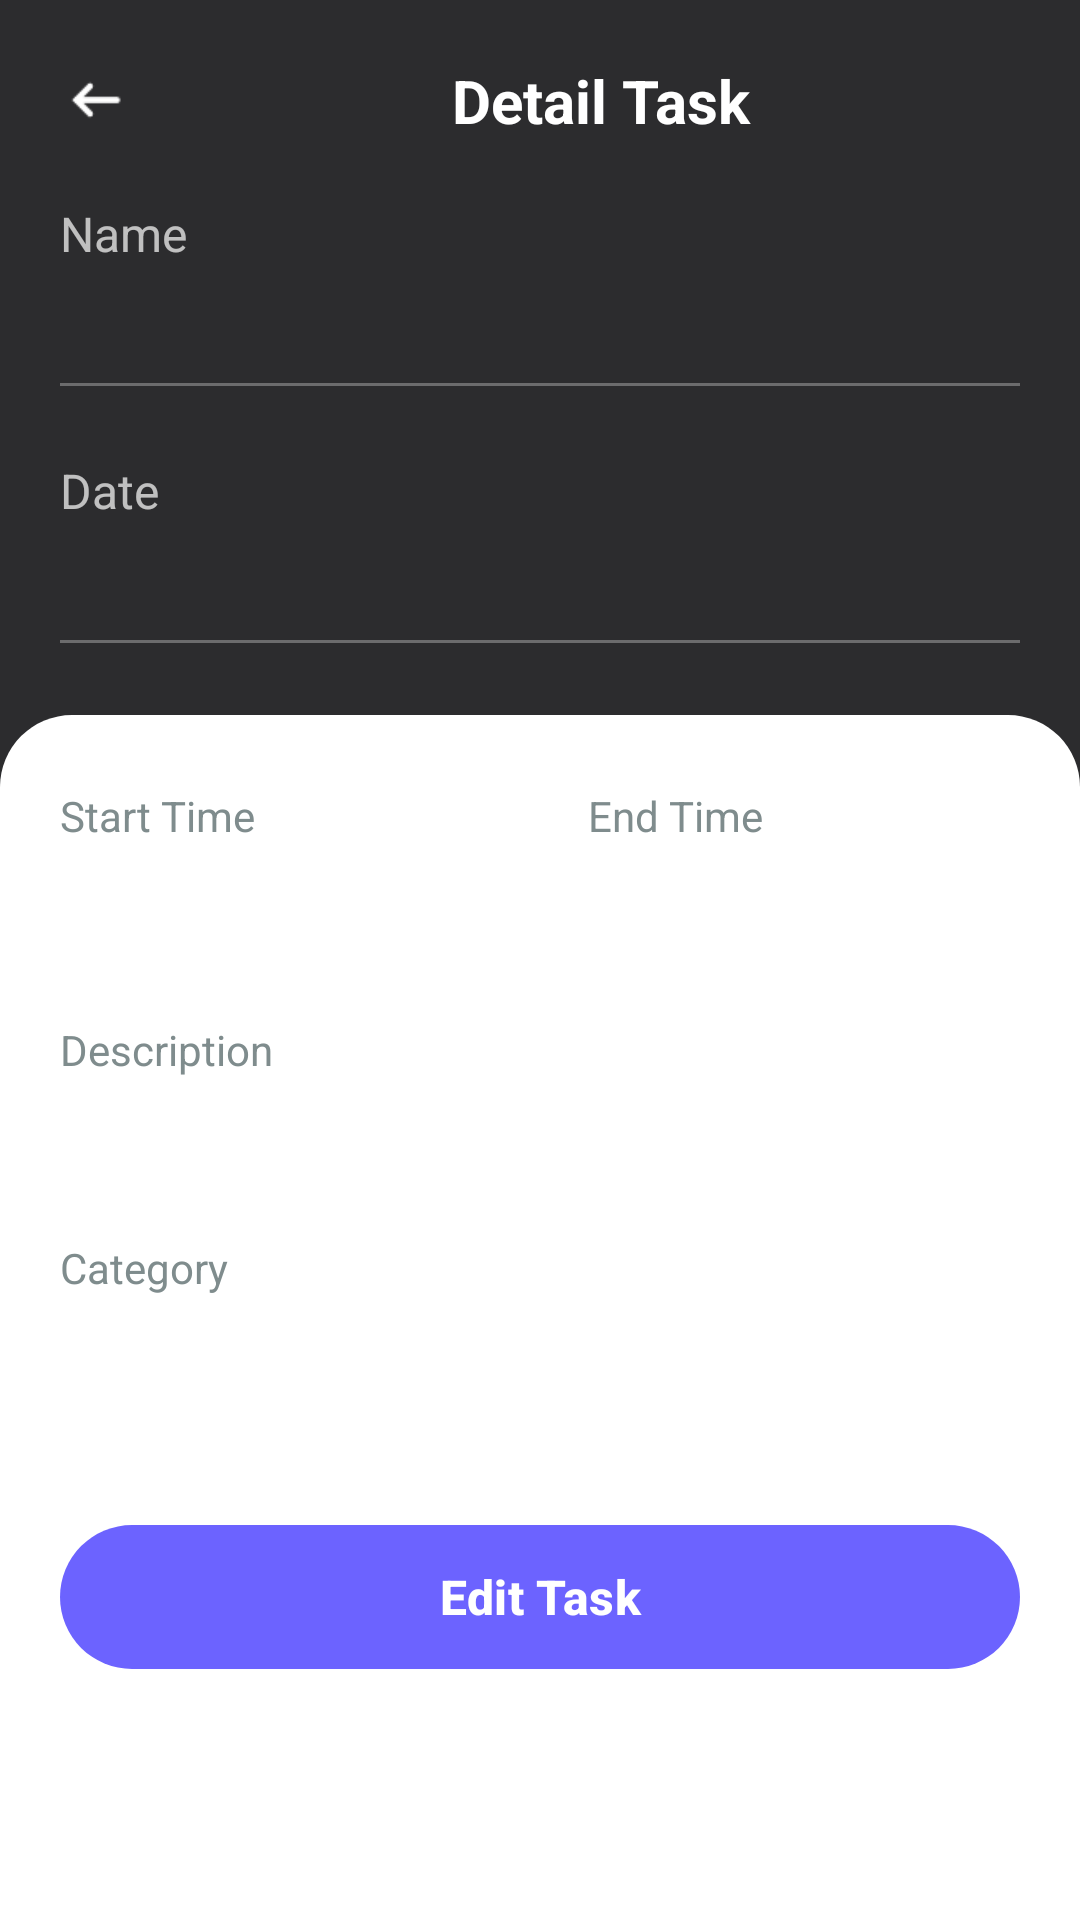

Locate icon controls on the screen. Image size 1080px×1920px, boxes as (x1, y1, x2, y2).
back: (72, 82, 121, 118)
